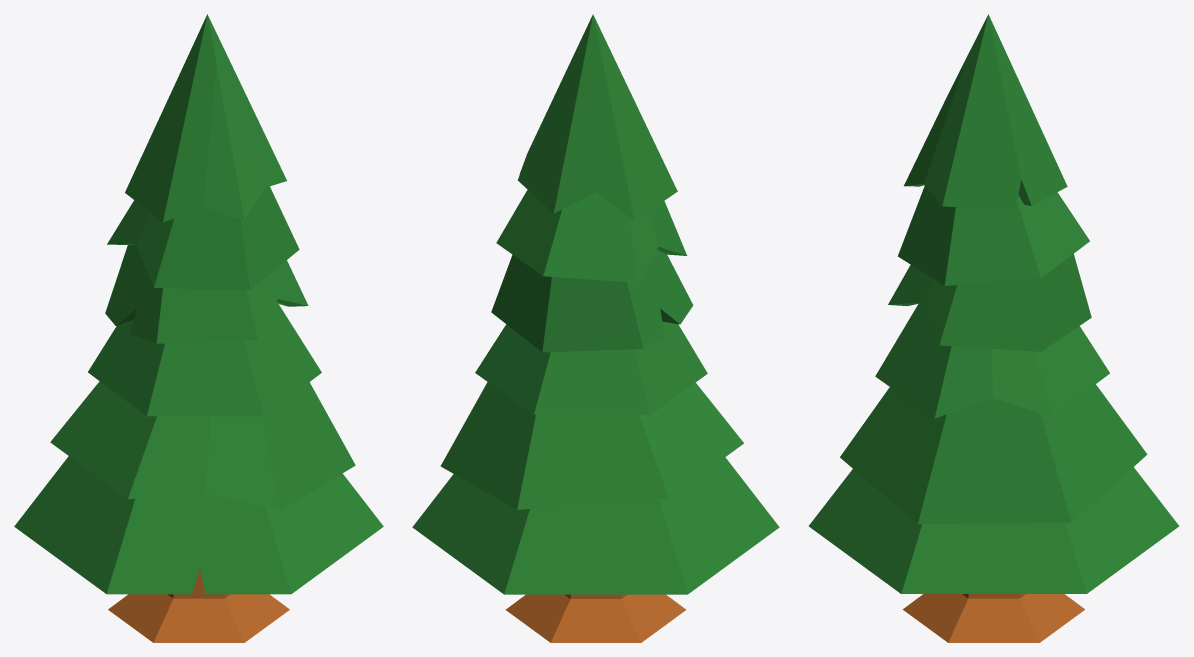
Rendered from evergreen-tree.glb.
3 renders of one model, left to right at view 1: azimuth 30°, elevation 25°; view 2: azimuth 150°, elevation 25°; view 3: azimuth 270°, elevation 25°, orthographic.
Parts seen in each view (by area): view 1: 02-tree-col; view 2: 02-tree-col; view 3: 02-tree-col.
Boxes of the visible parts, left/top/right/bottom form: 02-tree-col: left=14, top=14, right=383, bottom=642; 02-tree-col: left=412, top=14, right=779, bottom=642; 02-tree-col: left=809, top=14, right=1178, bottom=642.
Size of the model in its own units: 4.67 by 9.6 by 5.4.
